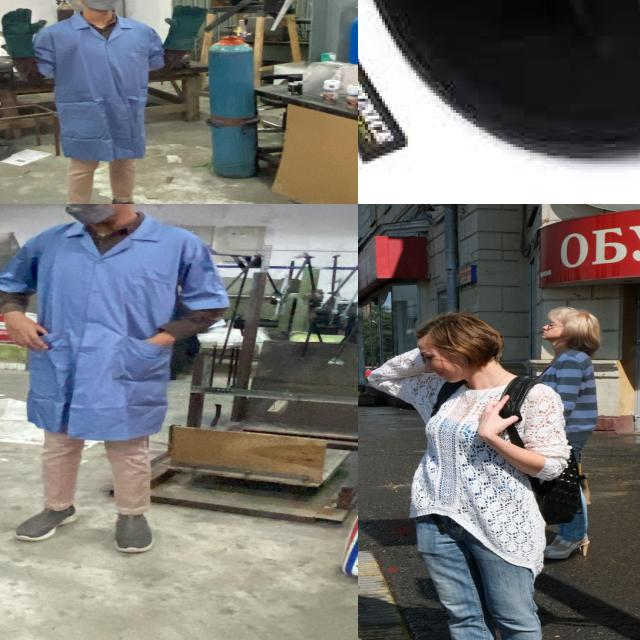Sandals: (358, 0, 640, 198)
face_mask: (51, 204, 122, 227), (79, 0, 128, 13)
hand_glove: (0, 5, 50, 43), (162, 3, 216, 38)
hand_noglove: (0, 314, 60, 354)
person: (0, 204, 234, 565), (0, 0, 222, 204)
shoes: (5, 498, 84, 548), (100, 504, 160, 556), (104, 195, 164, 204)
